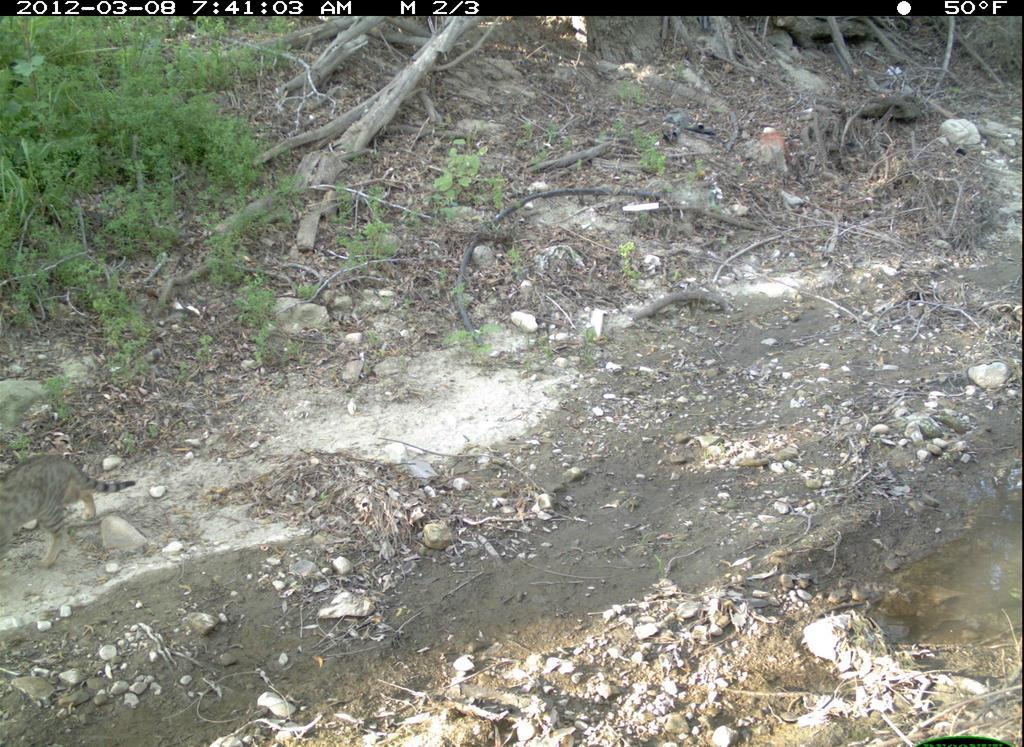cat: (2, 437, 141, 592)
